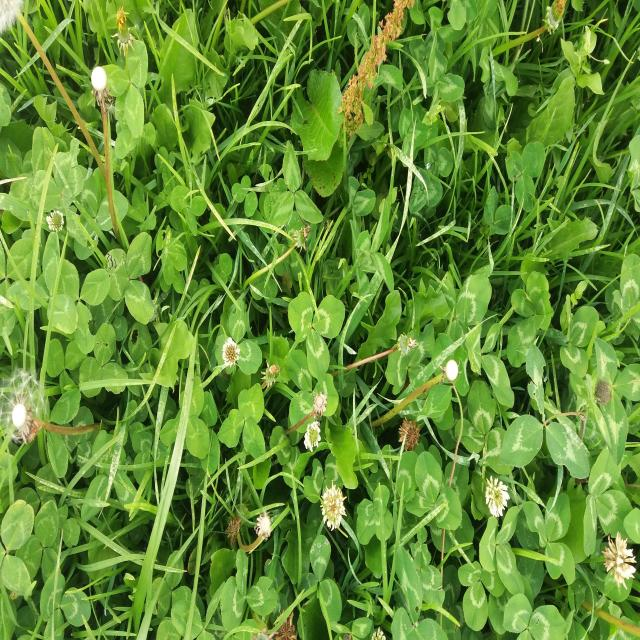Four Leaf Clover: (356, 484, 394, 543)
